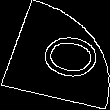O_W: (17, 26, 93, 84)
